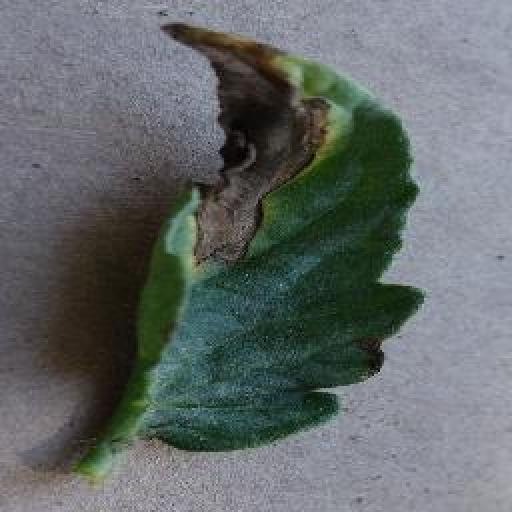disease_tomato: (115, 13, 423, 444)
